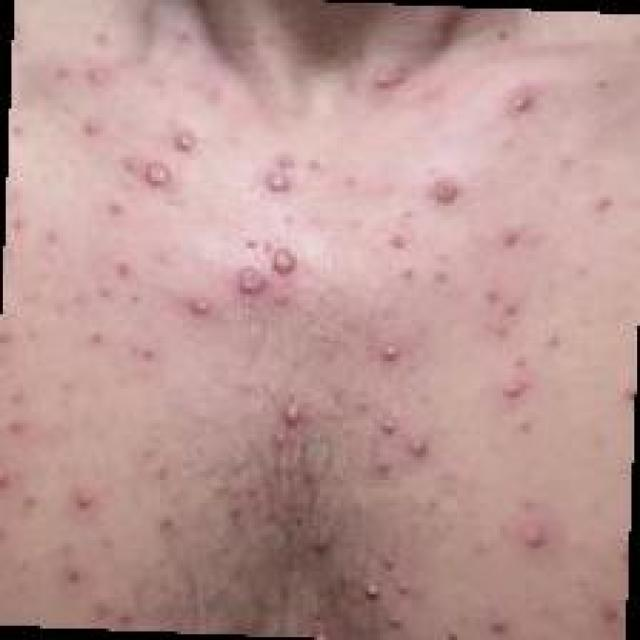others: (0, 19, 615, 640)
